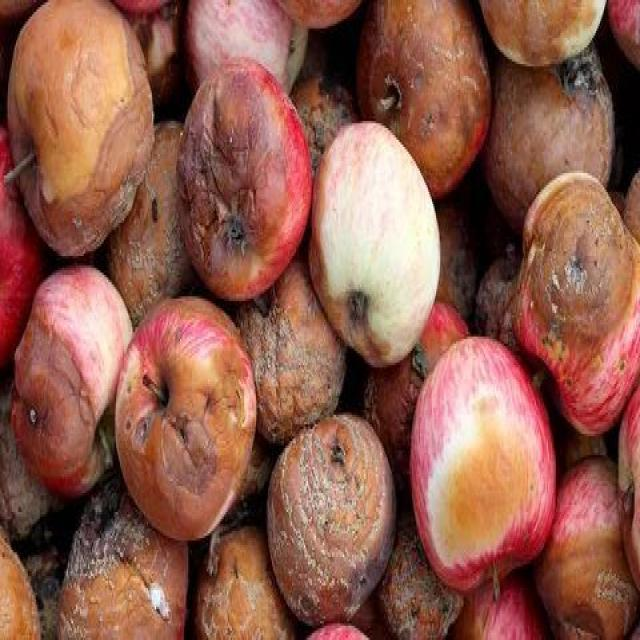Rotten Apple: (8, 8, 156, 255), (412, 343, 556, 592), (117, 303, 255, 543), (518, 172, 635, 432), (177, 69, 308, 301), (312, 125, 440, 362), (12, 268, 132, 495), (268, 415, 396, 623)
